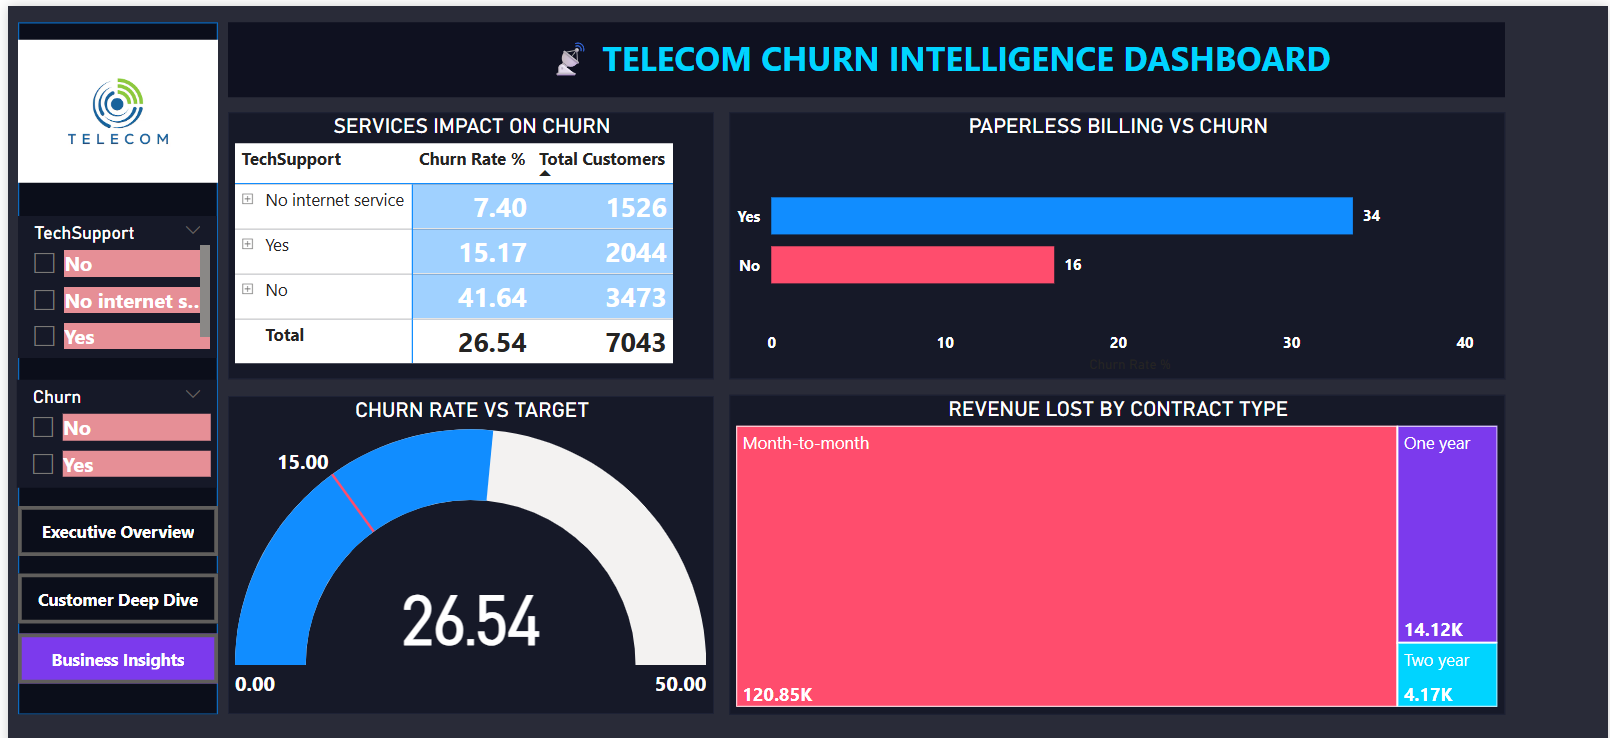

Layout of this report page (visuals, bound fields, positions):
{"tool":"powerbi","page":{"name":"Business Insights","canvas":[1280,720],"ordinal":2},"visuals":[{"type":"shape","box":[8,13,160,554],"z":0},{"type":"shape","box":[176,13,1022,60],"z":1000},{"type":"textbox","box":[215,18,1060,50],"z":2000},{"type":"image","box":[8,23,160,123],"z":3000},{"type":"actionButton","box":[8,400,160,40],"z":4000},{"type":"actionButton","box":[8,454,160,40],"z":5000},{"type":"actionButton","box":[8,502,160,40],"z":6000},{"type":"slicer","fields":{"Values":["WA_Fn-UseC_-Telco-Customer-Churn.Churn"]},"box":[6.7,299,160.6,86.5],"z":7000},{"type":"pivotTable","title":"SERVICES IMPACT ON CHURN","fields":{"Rows":["WA_Fn-UseC_-Telco-Customer-Churn.TechSupport","WA_Fn-UseC_-Telco-Customer-Churn.OnlineSecurity"],"Values":["WA_Fn-UseC_-Telco-Customer-Churn.Churn Rate %","WA_Fn-UseC_-Telco-Customer-Churn.Total Customers"]},"box":[176,85,389,214],"z":8000},{"type":"clusteredBarChart","title":"PAPERLESS BILLING VS CHURN","fields":{"Category":["WA_Fn-UseC_-Telco-Customer-Churn.PaperlessBilling"],"Y":["WA_Fn-UseC_-Telco-Customer-Churn.Churn Rate %"]},"box":[577,85,621,214],"z":9000},{"type":"gauge","title":"CHURN RATE VS TARGET","fields":{"Y":["WA_Fn-UseC_-Telco-Customer-Churn.Churn Rate %"]},"box":[176,312,389,255],"z":10000},{"type":"treemap","title":"REVENUE LOST BY CONTRACT TYPE","fields":{"Group":["WA_Fn-UseC_-Telco-Customer-Churn.Contract"],"Values":["WA_Fn-UseC_-Telco-Customer-Churn.Revenue Lost"]},"box":[577,311,621,256],"z":11000},{"type":"slicer","fields":{"Values":["WA_Fn-UseC_-Telco-Customer-Churn.TechSupport"]},"box":[7.7,168.3,159.6,113.5],"z":12000}]}

Visuals, with their boxes on the page's 1280x720 design canvas (x1, y1, x2, y2). These are canvas units, not pixel positions in the 1610x738 screenshot, which may show the page scaled, cropped or inside an application window:
shape: [8, 13, 168, 567]
shape: [176, 13, 1198, 73]
textbox: [215, 18, 1275, 68]
image: [8, 23, 168, 146]
actionButton: [8, 400, 168, 440]
actionButton: [8, 454, 168, 494]
actionButton: [8, 502, 168, 542]
slicer - WA_Fn-UseC_-Telco-Customer-Churn.Churn: [7, 299, 167, 386]
"SERVICES IMPACT ON CHURN" pivotTable: [176, 85, 565, 299]
"PAPERLESS BILLING VS CHURN" clusteredBarChart: [577, 85, 1198, 299]
"CHURN RATE VS TARGET" gauge: [176, 312, 565, 567]
"REVENUE LOST BY CONTRACT TYPE" treemap: [577, 311, 1198, 567]
slicer - WA_Fn-UseC_-Telco-Customer-Churn.TechSupport: [8, 168, 167, 282]
